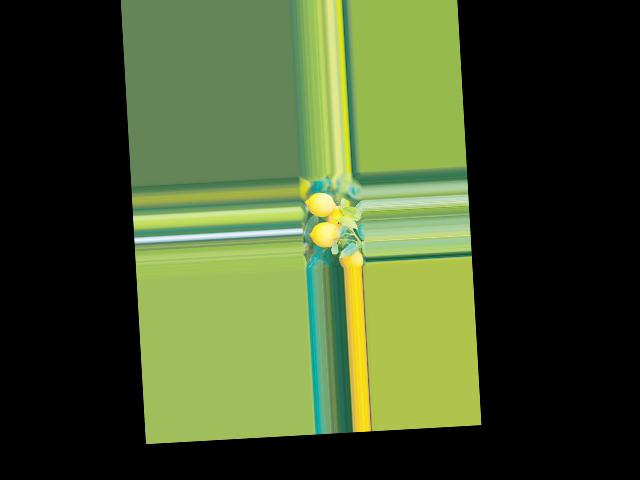lemon: (305, 192, 337, 216)
